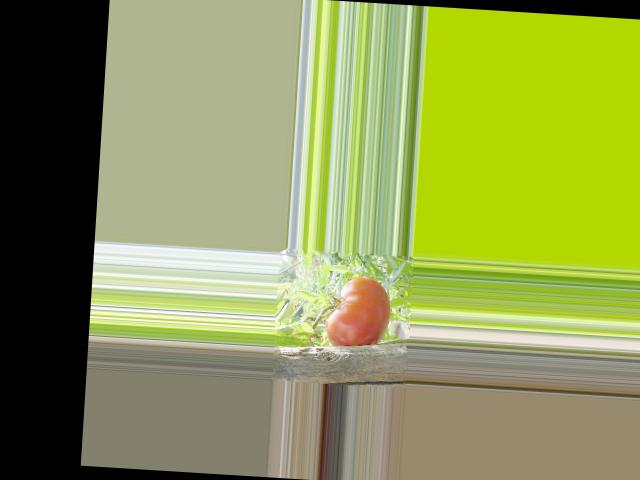tomato: (324, 274, 391, 349)
